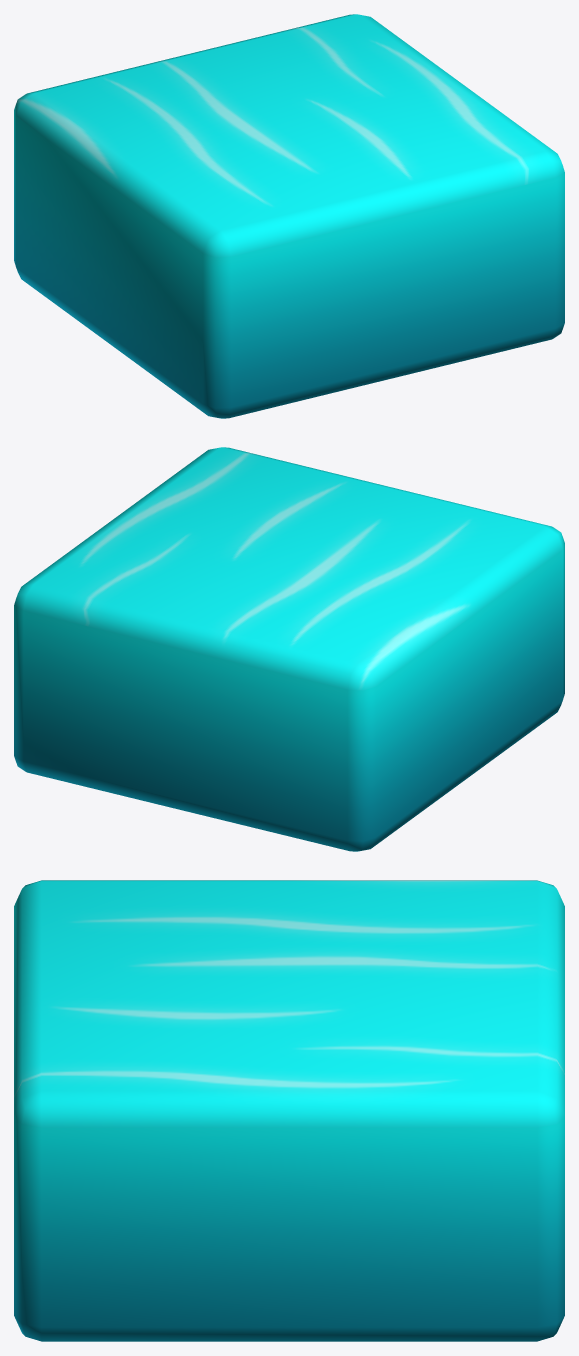
File: 3D_Tile_Water_01A.fbx
The picture shows the model from 3 angles, top to bottom: view 1: azimuth 30°, elevation 25°; view 2: azimuth 150°, elevation 25°; view 3: azimuth 270°, elevation 25°; orthographic projection. The views are drawn at different scales.
Visible parts, largest first — view 1: 3D_Tile_Water_01A; view 2: 3D_Tile_Water_01A; view 3: 3D_Tile_Water_01A.
Boxes of the visible parts, left/top/right/bottom form: 3D_Tile_Water_01A: left=14, top=14, right=564, bottom=418; 3D_Tile_Water_01A: left=14, top=447, right=564, bottom=851; 3D_Tile_Water_01A: left=14, top=880, right=564, bottom=1341.
Size of the model in its own units: 200 by 100 by 200.
